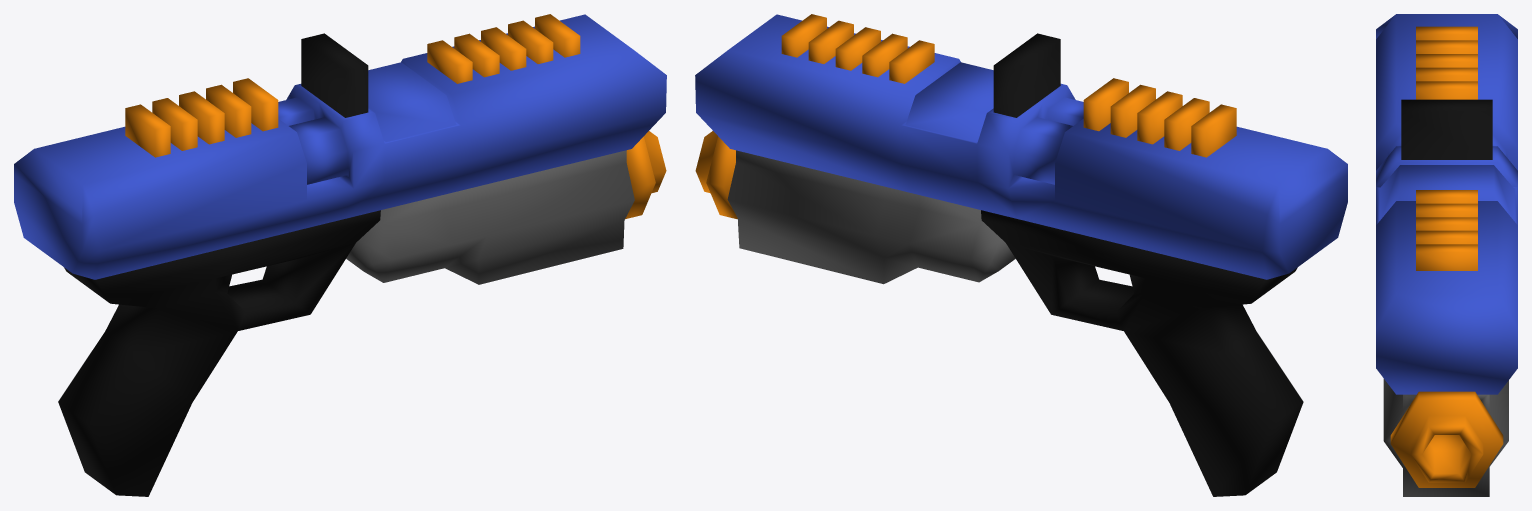
Rendered from Pistol.fbx.
The picture shows the model from 3 angles, left to right: view 1: azimuth 30°, elevation 25°; view 2: azimuth 150°, elevation 25°; view 3: azimuth 270°, elevation 25°; orthographic projection. The views are drawn at different scales.
Visible parts, largest first — view 1: Pistol; view 2: Pistol; view 3: Pistol.
Boxes of the visible parts, <box> form: Pistol: <box>14,14,666,496</box>; Pistol: <box>695,14,1347,496</box>; Pistol: <box>1376,14,1517,496</box>.
Bounding box in the file's own units: 168 × 103 × 33.11.
